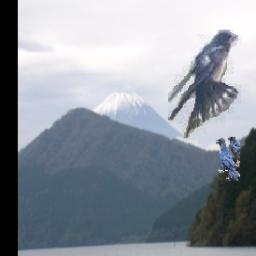Crow: (216, 137, 240, 181)
Swallow: (168, 31, 241, 140)
